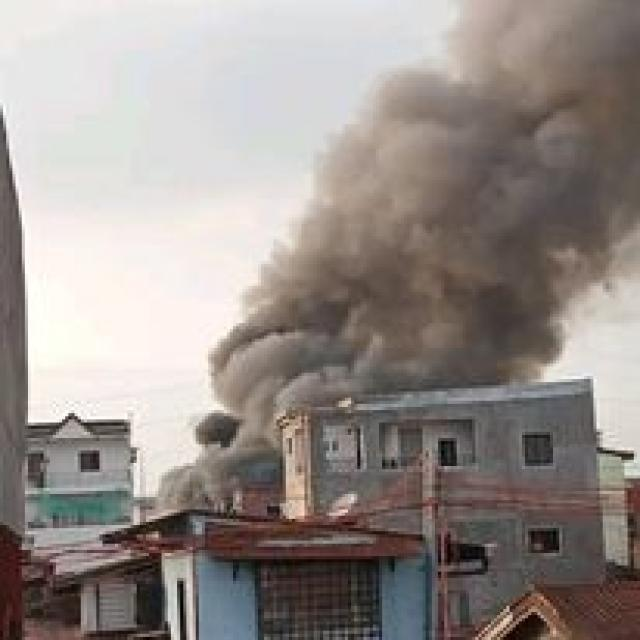Smoke: (360, 0, 640, 385), (190, 298, 280, 502)
